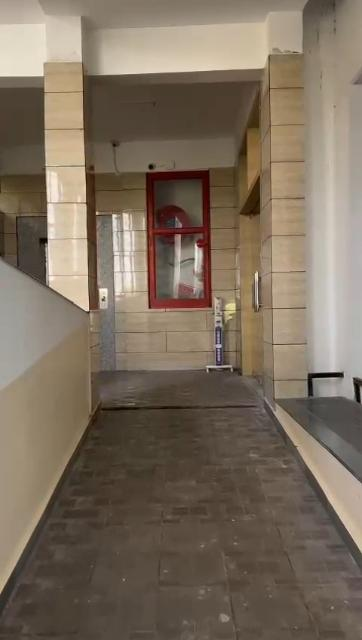floor: (3, 372, 362, 640)
wall: (275, 4, 362, 367), (45, 9, 88, 418), (0, 288, 44, 524), (108, 176, 144, 367), (214, 174, 244, 296), (142, 312, 210, 363), (0, 446, 66, 476), (34, 410, 80, 440), (1, 517, 19, 571)
